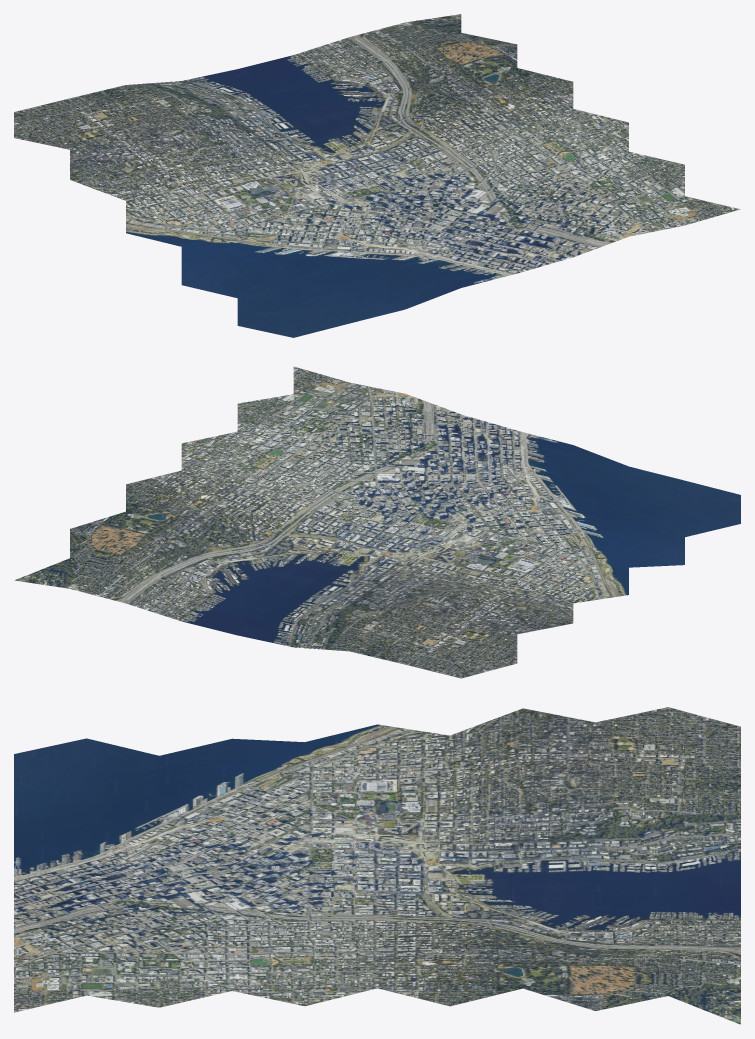
File: Venue_Terrain.fbx
3 renders of one model, top to bottom at view 1: azimuth 30°, elevation 25°; view 2: azimuth 150°, elevation 25°; view 3: azimuth 270°, elevation 25°, orthographic. The views are drawn at different scales.
Parts seen in each view (by area): view 1: TERRAIN0; view 2: TERRAIN0; view 3: TERRAIN0.
Part boxes in pixels (left/top/right/bottom): TERRAIN0: left=14, top=14, right=740, bottom=337; TERRAIN0: left=14, top=366, right=740, bottom=678; TERRAIN0: left=14, top=707, right=740, bottom=1024.
Size of the model in its own units: 4250 by 231 by 4330.
